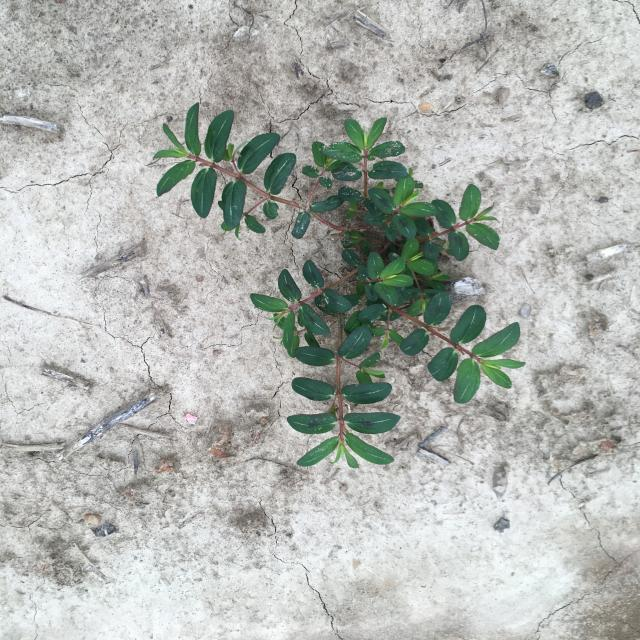SpottedSpurge: (154, 102, 526, 468)
